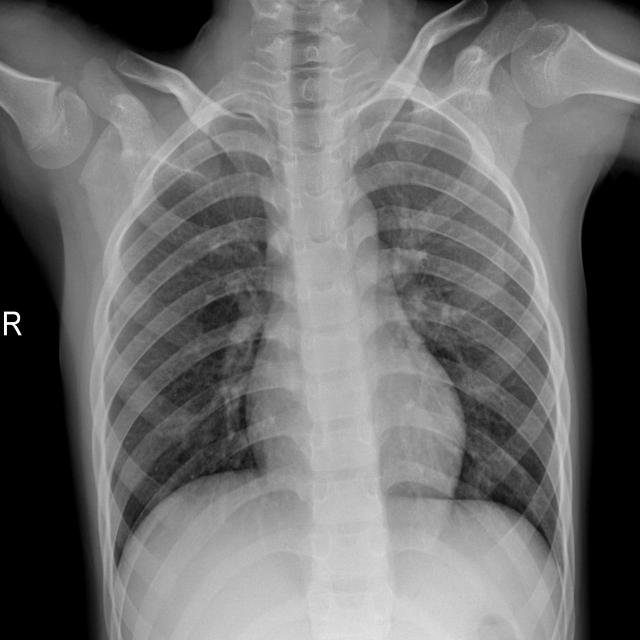no-pneumonia: (358, 87, 573, 579), (92, 97, 280, 580)
